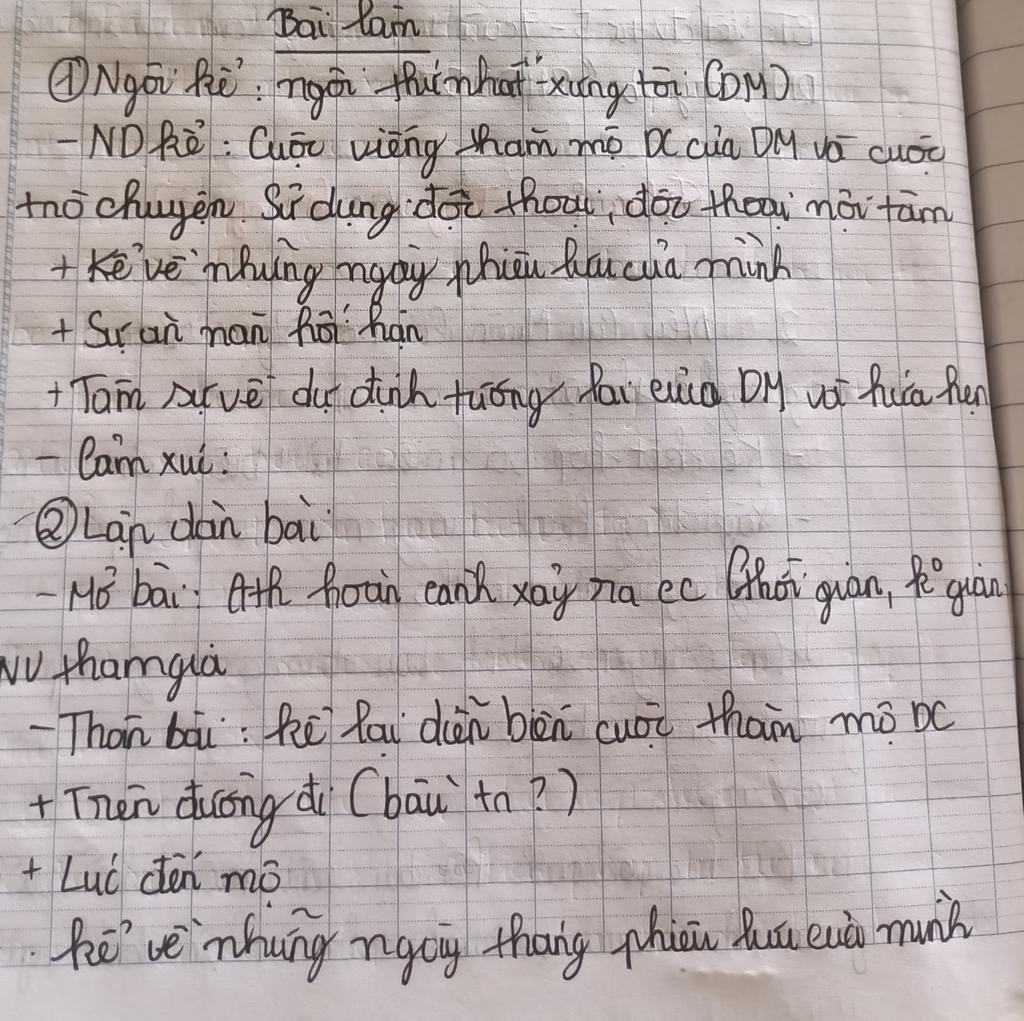text: (46, 884, 979, 993), (34, 537, 1013, 627), (26, 684, 960, 766), (44, 356, 993, 433), (14, 173, 959, 246), (59, 116, 949, 184), (46, 236, 796, 310), (40, 50, 796, 123), (26, 760, 581, 853), (47, 300, 426, 359), (29, 489, 333, 561), (24, 844, 286, 910), (0, 631, 233, 704), (33, 430, 234, 489), (264, 0, 427, 43)
